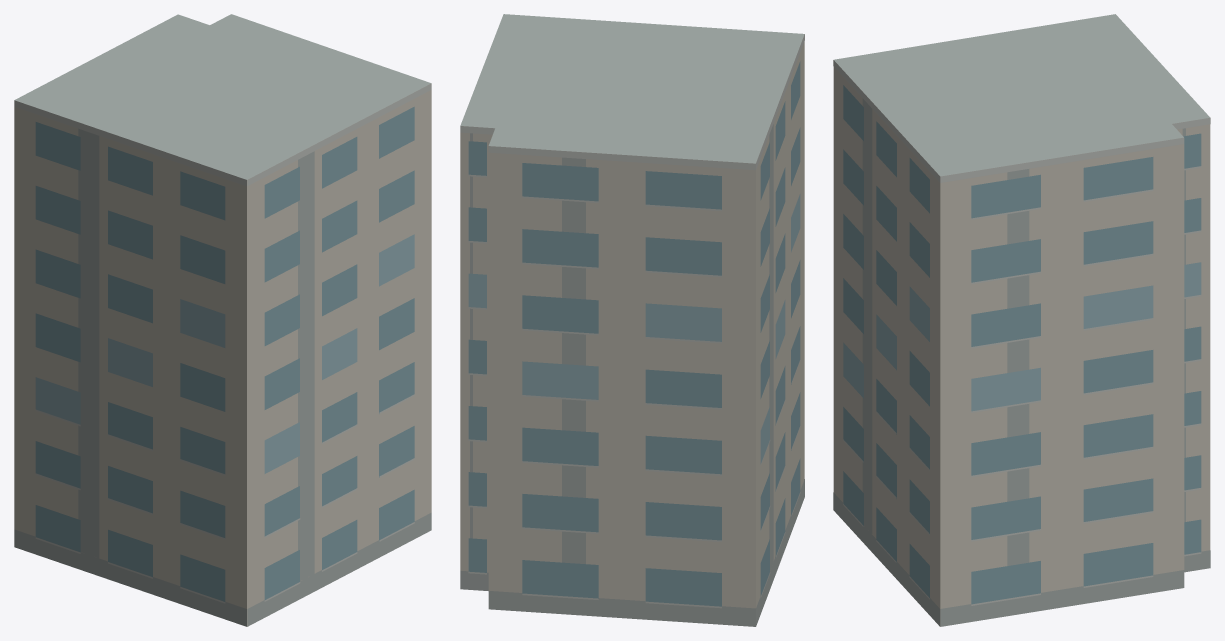
Rendered from survey-upis-32860259.glb.
3 renders of one model, left to right at view 1: azimuth 30°, elevation 25°; view 2: azimuth 150°, elevation 25°; view 3: azimuth 270°, elevation 25°, orthographic. The views are drawn at different scales.
Parts seen in each view (by area): view 1: survey-upis-32860259.tmp; view 2: survey-upis-32860259.tmp; view 3: survey-upis-32860259.tmp.
Part boxes in pixels (x1,y1,x2,y2): survey-upis-32860259.tmp: (14, 14, 431, 626); survey-upis-32860259.tmp: (460, 14, 804, 626); survey-upis-32860259.tmp: (833, 14, 1210, 626).
Size of the model in its own units: 13.09 by 16.9 by 12.83.
